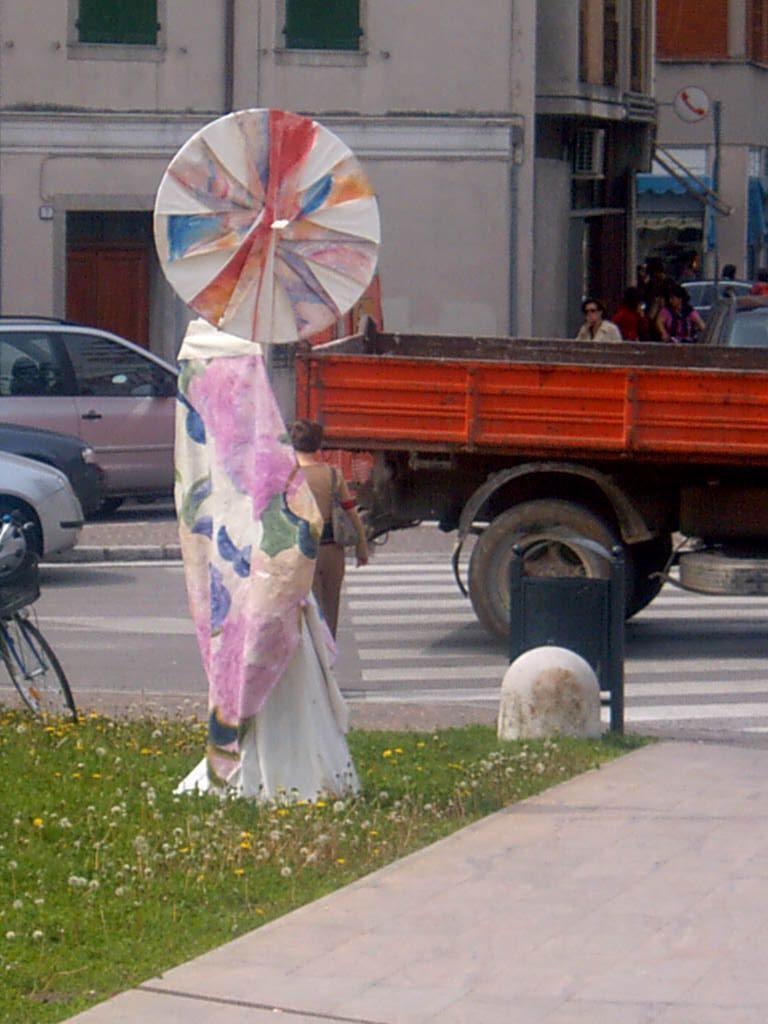Car: (0, 307, 205, 549), (0, 449, 84, 583), (0, 414, 103, 519), (673, 280, 749, 344), (700, 289, 767, 344)
